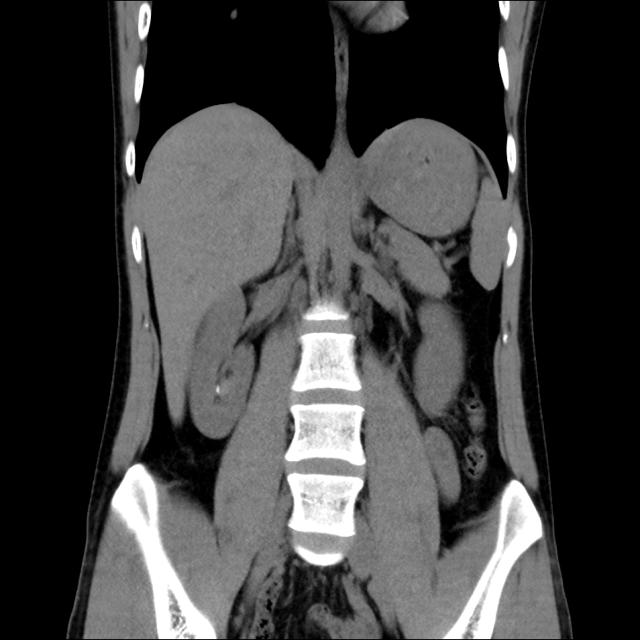kidneystone: (412, 300, 466, 419)
